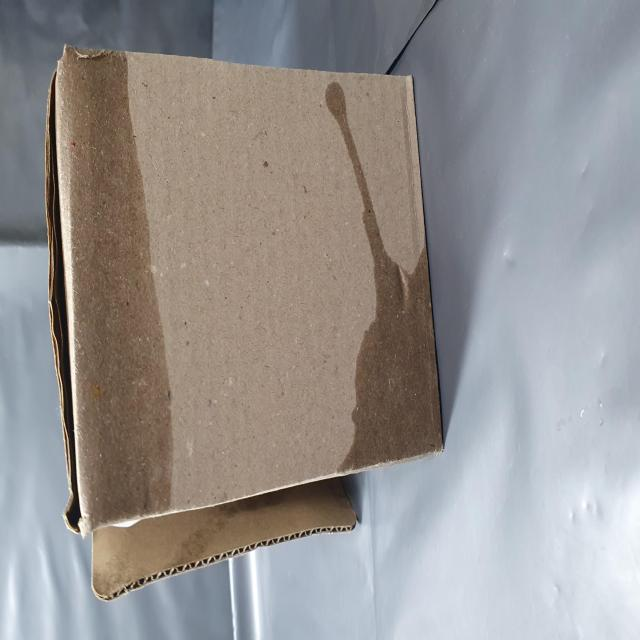wet: (52, 95, 340, 326), (90, 582, 242, 640)
